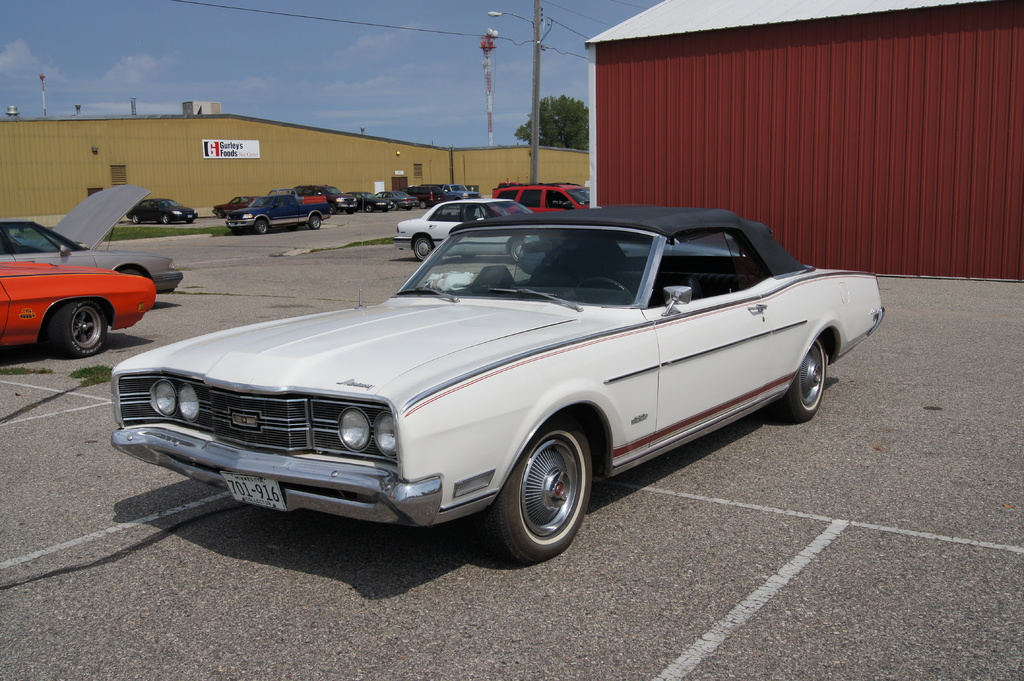Car: (104, 208, 858, 560), (213, 182, 586, 262), (1, 187, 183, 298), (0, 261, 157, 352), (128, 198, 199, 223)
